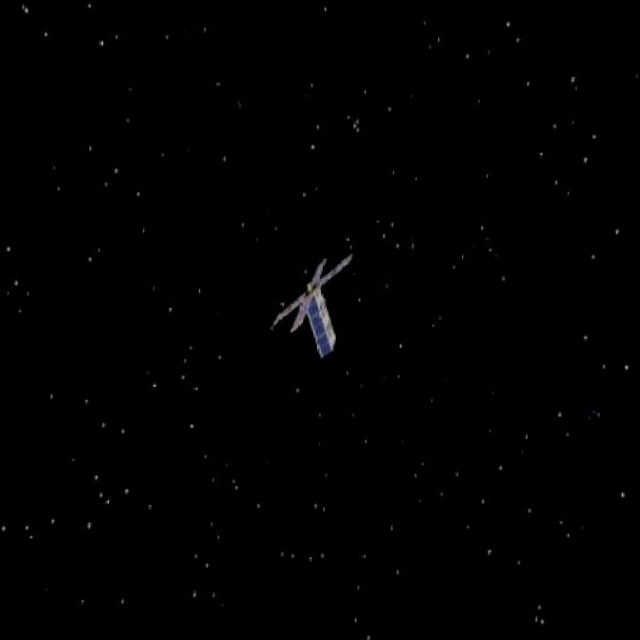satellite: (255, 218, 368, 379)
